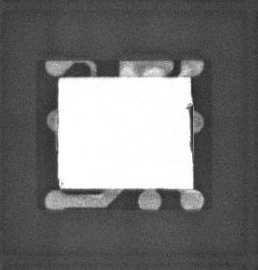DIE_BROKEN: (185, 100, 195, 161)
